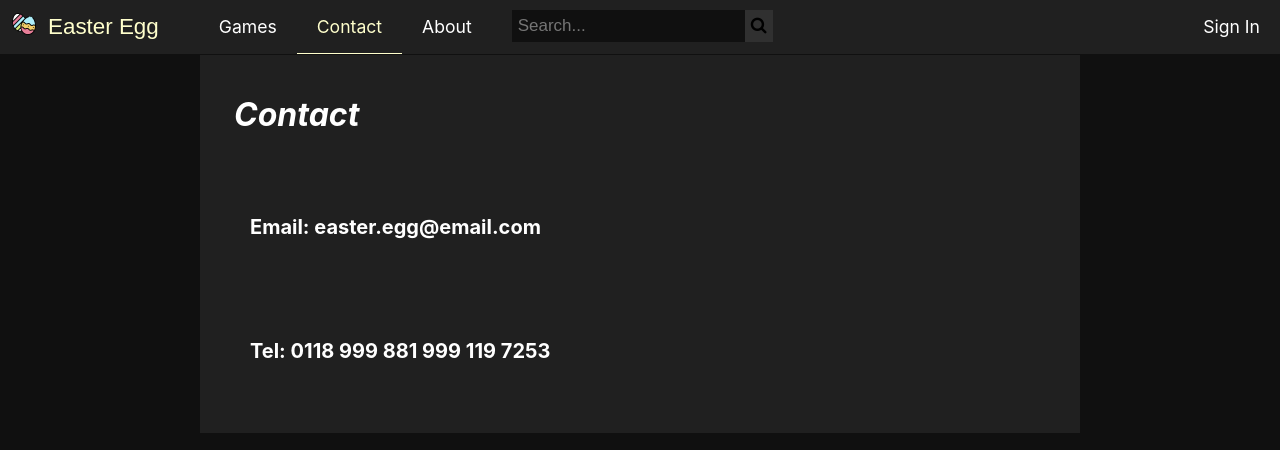
navigates to /about when you click About
Click the link with class "about-nav": (447, 26) [422,16,472,37]
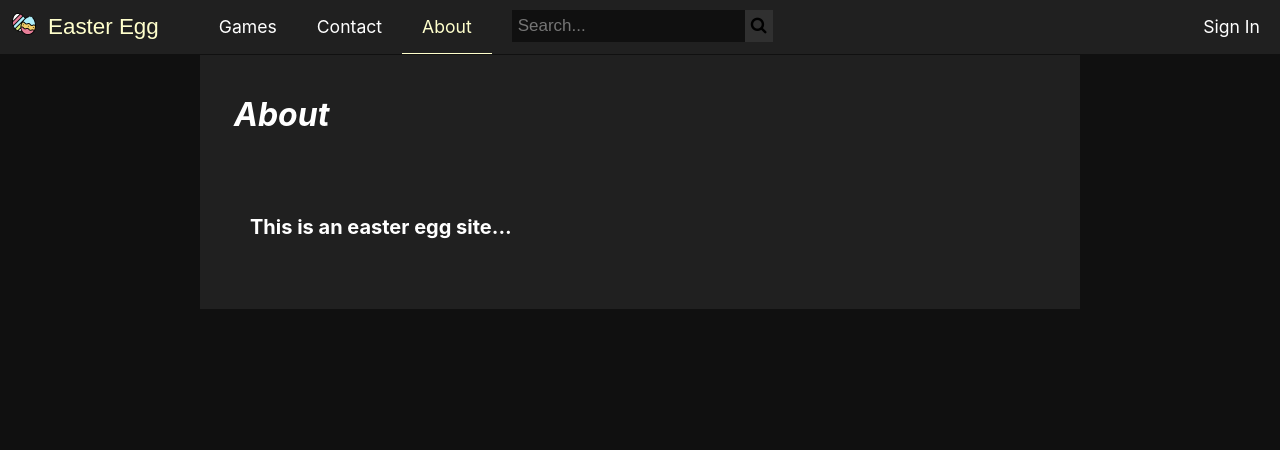
Now the element with class "content-container" reads "About This is an easter egg site...", box [200,50,1080,309]
